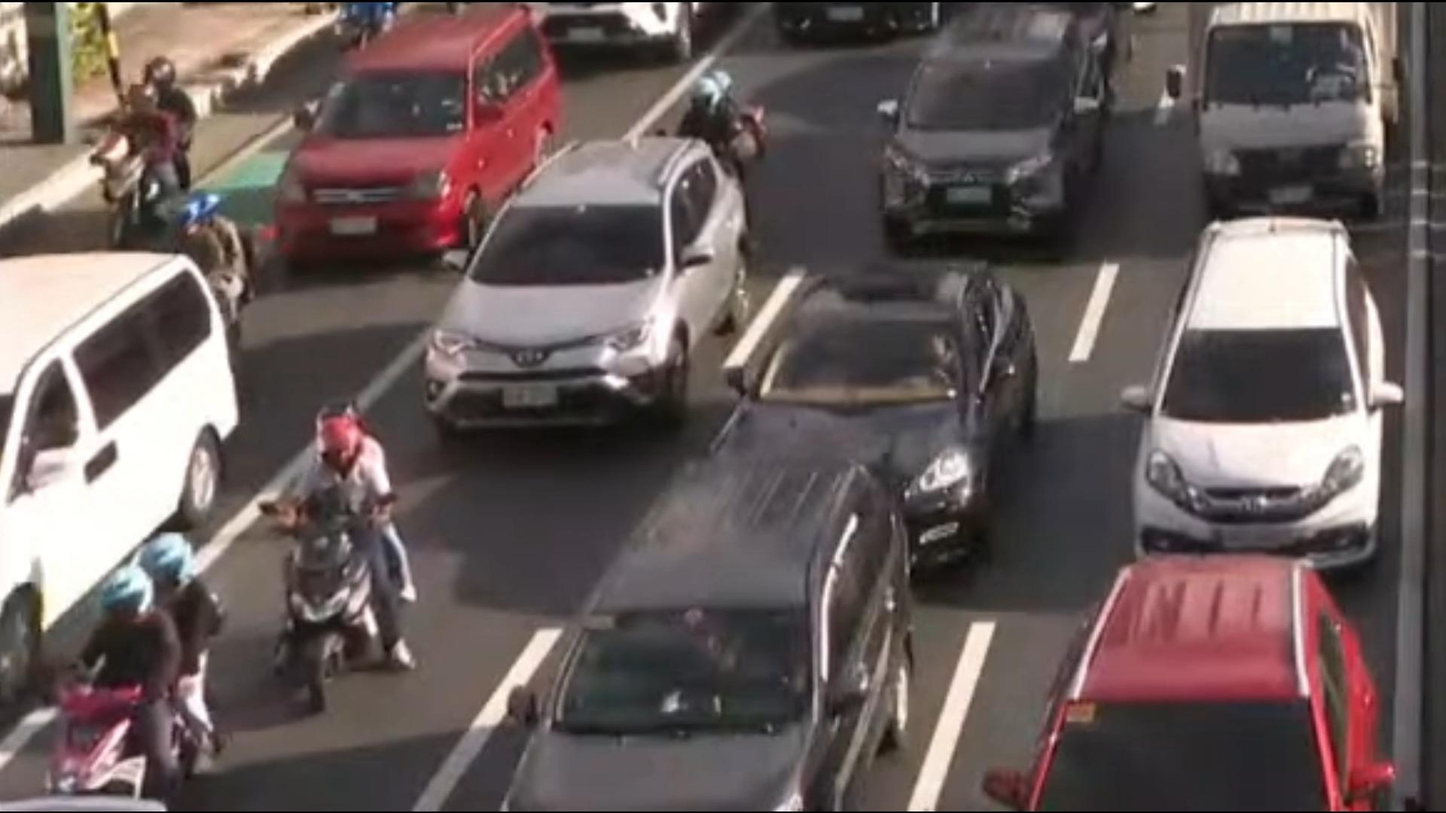Motorcycle: (43, 523, 217, 802), (279, 403, 409, 704), (88, 45, 201, 250), (665, 66, 764, 186)
SUV: (527, 454, 919, 813), (1124, 207, 1395, 553), (422, 136, 744, 423), (1034, 557, 1388, 813), (273, 15, 557, 263), (876, 8, 1122, 260)
Sedan: (714, 271, 1037, 548)
Van: (0, 254, 237, 700)
